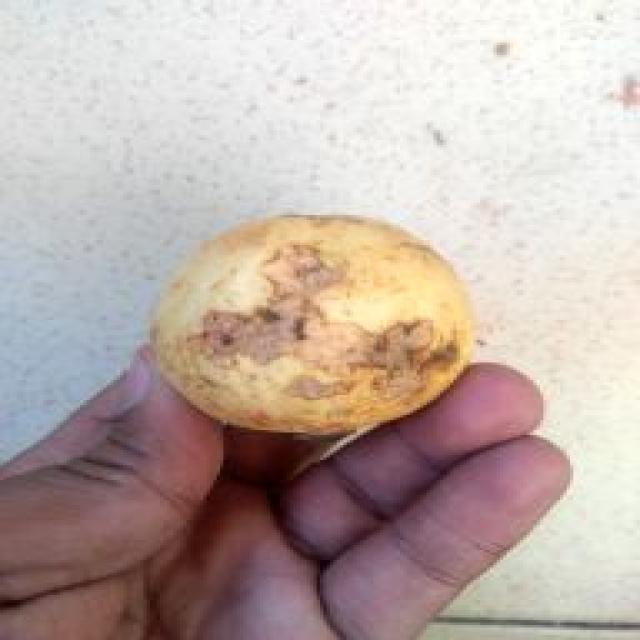Bad_Guava: (152, 215, 473, 434)
